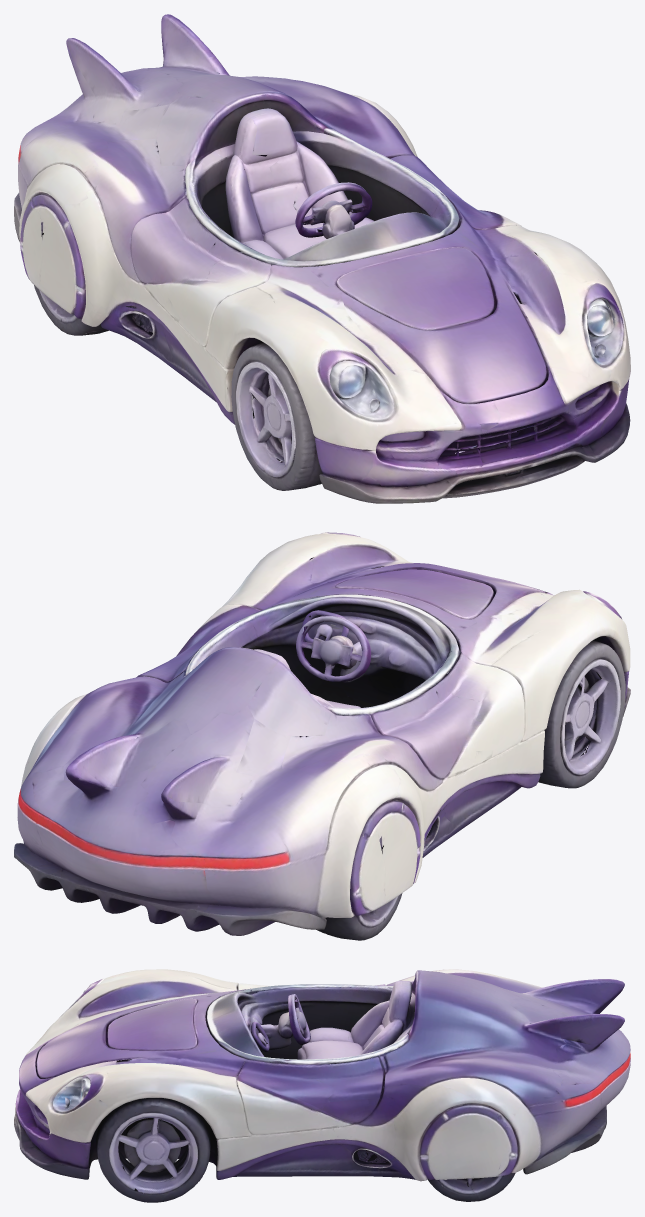
The model's file is nova.glb.
3 renders of one model, top to bottom at view 1: azimuth 30°, elevation 25°; view 2: azimuth 150°, elevation 25°; view 3: azimuth 270°, elevation 25°, orthographic. The views are drawn at different scales.
Visible parts, largest first — view 1: model; view 2: model; view 3: model.
Part boxes in pixels (left/top/right/bottom): model: left=14, top=14, right=630, bottom=503; model: left=14, top=532, right=630, bottom=940; model: left=14, top=969, right=630, bottom=1202.
Bounding box in the file's own units: 0.9277 × 0.5802 × 1.9.
1 material, 1 textured.
